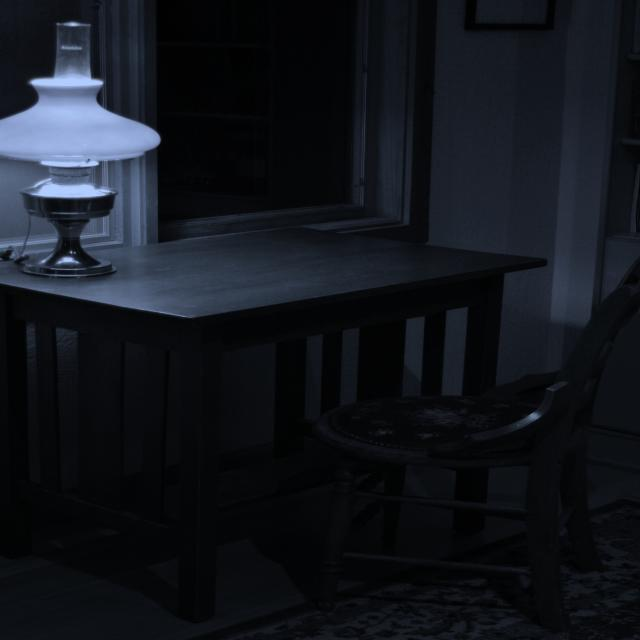Table: (5, 181, 533, 505)
